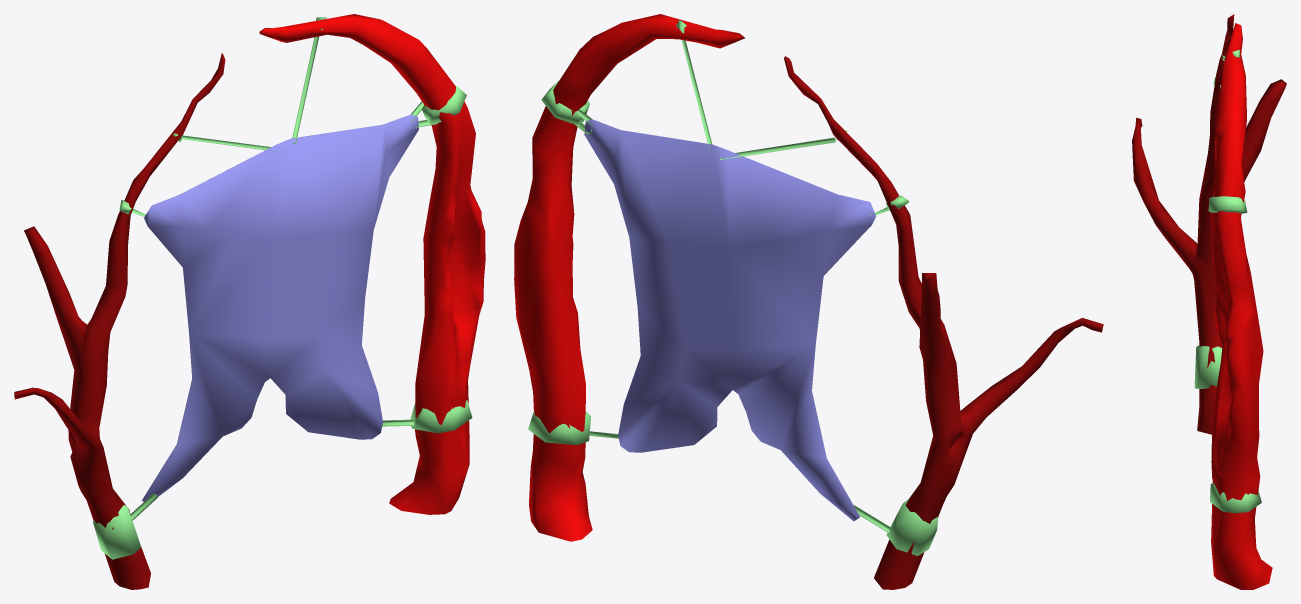
File: banner_pelt_generic_village_A.gltf
3 renders of one model, left to right at view 1: azimuth 30°, elevation 25°; view 2: azimuth 150°, elevation 25°; view 3: azimuth 270°, elevation 25°, orthographic. The views are drawn at different scales.
Visible parts, largest first — view 1: banner_pelt_generic_village_A; view 2: banner_pelt_generic_village_A; view 3: banner_pelt_generic_village_A.
Boxes of the visible parts, x1,y1,x2,y2 form: banner_pelt_generic_village_A: (14,14,485,589); banner_pelt_generic_village_A: (514,14,1103,589); banner_pelt_generic_village_A: (1132,14,1286,589).
Size of the model in its own units: 2.82 by 2.69 by 0.7879.
